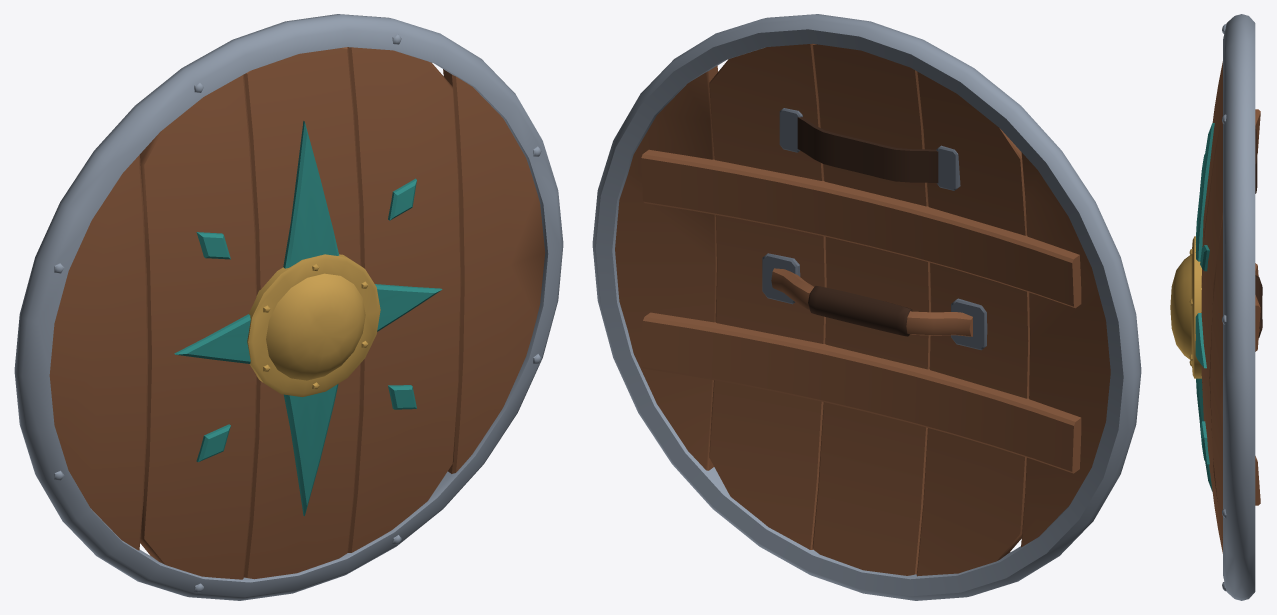
File: Shield.fbx
3 renders of one model, left to right at view 1: azimuth 30°, elevation 25°; view 2: azimuth 150°, elevation 25°; view 3: azimuth 270°, elevation 25°, orthographic. The views are drawn at different scales.
Parts seen in each view (by area): view 1: Shield_Wood, Shield_Rim, Shield_Boss, Shield_Emblem; view 2: Shield_Wood, Shield_Rim, Shield_Leather, Shield_Brackets; view 3: Shield_Rim, Shield_Wood, Shield_Boss, Shield_Emblem, Shield_Leather.
Boxes of the visible parts, bbox=[...] form: Shield_Wood: bbox=[49, 47, 545, 579]; Shield_Rim: bbox=[14, 14, 563, 600]; Shield_Boss: bbox=[247, 254, 380, 397]; Shield_Emblem: bbox=[174, 121, 442, 516]; Shield_Wood: bbox=[615, 43, 1110, 576]; Shield_Rim: bbox=[592, 14, 1141, 600]; Shield_Leather: bbox=[797, 117, 938, 336]; Shield_Brackets: bbox=[762, 108, 987, 350]; Shield_Rim: bbox=[1222, 14, 1255, 600]; Shield_Wood: bbox=[1201, 61, 1260, 553]; Shield_Boss: bbox=[1170, 236, 1201, 378]; Shield_Emblem: bbox=[1195, 123, 1214, 491]; Shield_Leather: bbox=[1255, 129, 1262, 337].
Size of the model in its own units: 61.2 by 61.2 by 9.62.
